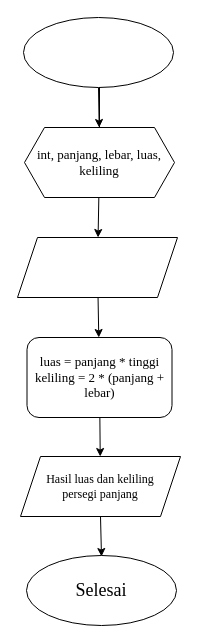
Image size: 198x643. Some labels were removed from this diagram. Here are the shapes that lost their labels. From the top down, the centre of each, then its label:
At (x=98, y=52): "Mulai".
At (x=97, y=267): "input, panjang, lebar".
